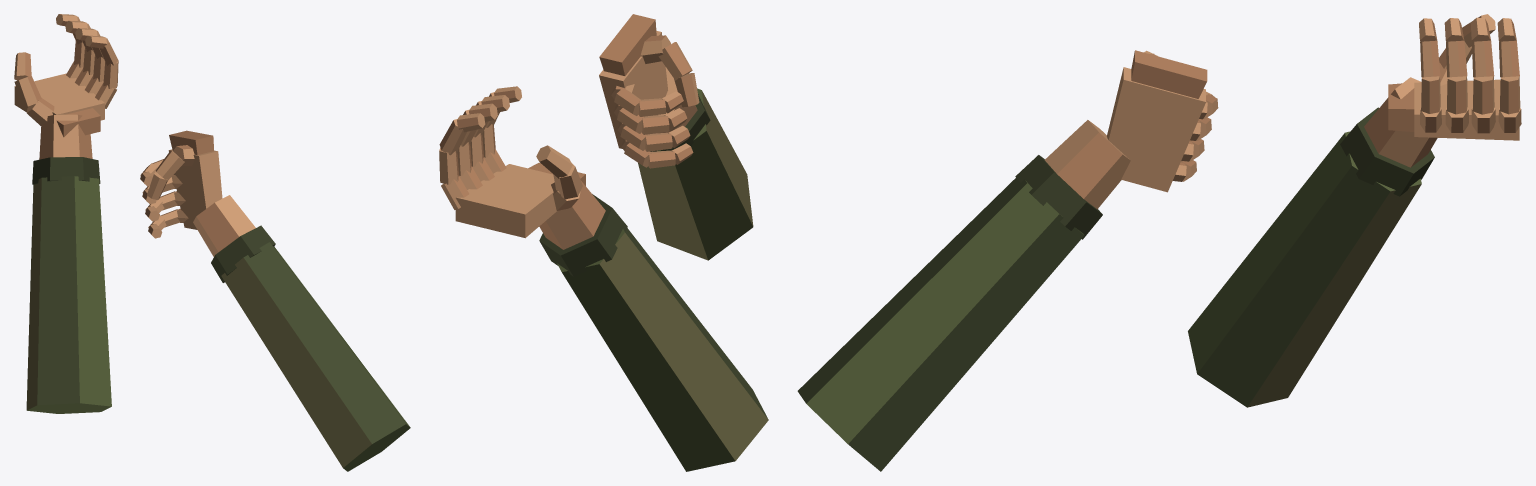
File: maos_m4.glb
The picture shows the model from 3 angles, left to right: view 1: azimuth 30°, elevation 25°; view 2: azimuth 150°, elevation 25°; view 3: azimuth 270°, elevation 25°; orthographic projection. The views are drawn at different scales.
Parts seen in each view (by area): view 1: MaoE, MaoD; view 2: MaoE, MaoD; view 3: MaoD, MaoE.
Part boxes in pixels (x1=…): MaoE: x1=14, y1=14, x2=118, y2=413; MaoD: x1=140, y1=130, x2=410, y2=471; MaoE: x1=439, y1=86, x2=768, y2=471; MaoD: x1=599, y1=14, x2=753, y2=260; MaoD: x1=797, y1=50, x2=1218, y2=471; MaoE: x1=1188, y1=14, x2=1521, y2=407.
Bounding box in the file's own units: 0.3394 × 0.4462 × 0.6726.
